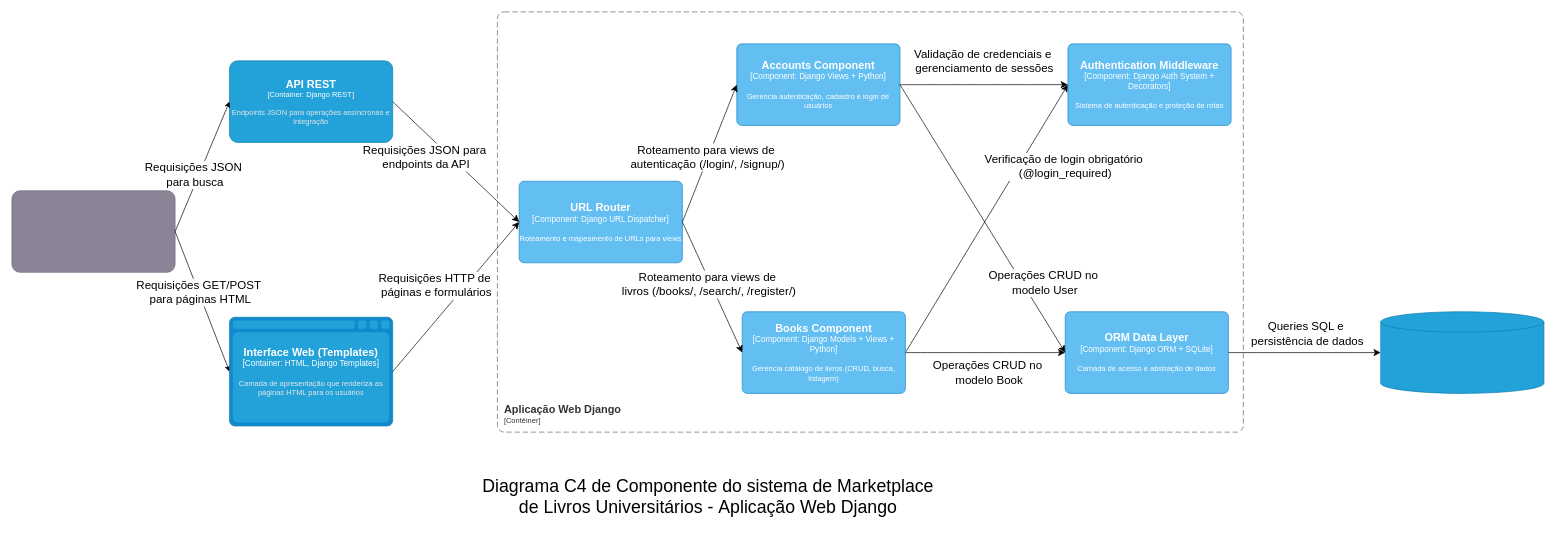
Image size: 1556x551. Some labels were removed from this diagram. The shapes that lost their labels are listed below. From the top down, each one's centre as x and y in pixels, then its label:
(93,231): Navegador Web [Sistema de Software] Interface de acesso do usuário ao sistema
(1462,352): Banco de Dados [Container: SQLite] Sistema de persistência de dados
